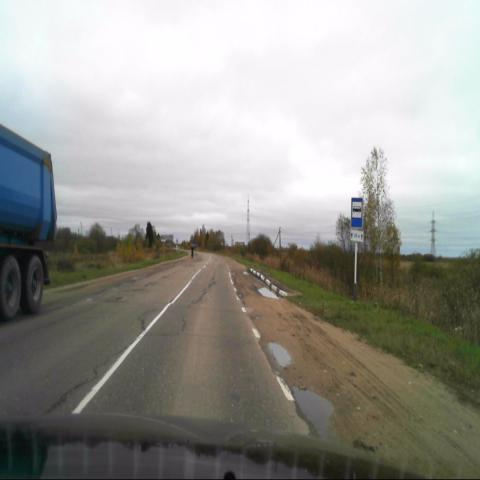5_16: (351, 197, 362, 228)
8_2_1: (350, 230, 363, 243)
